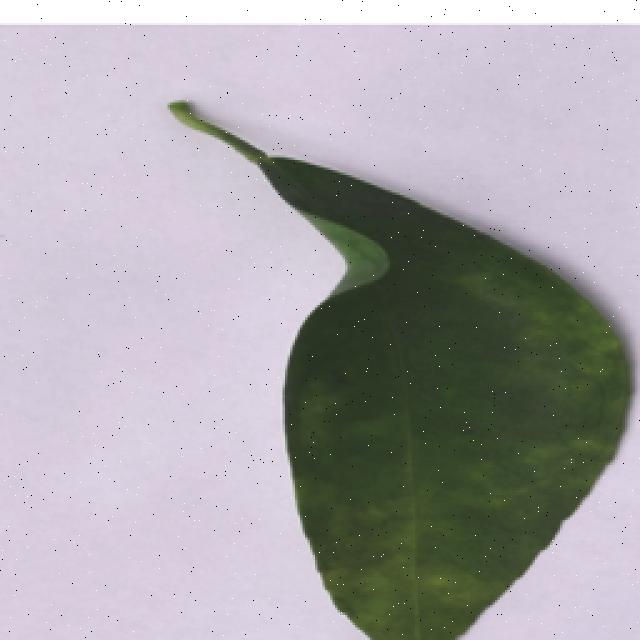greening: (155, 80, 640, 640)
